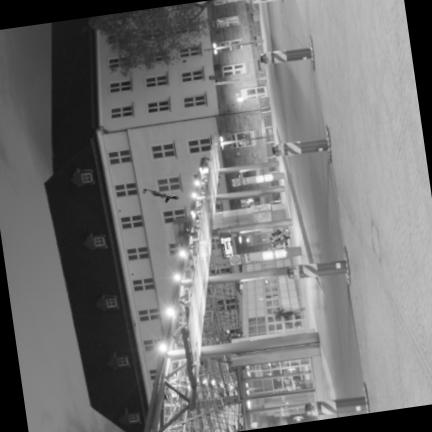Shahed: (142, 188, 178, 201)
